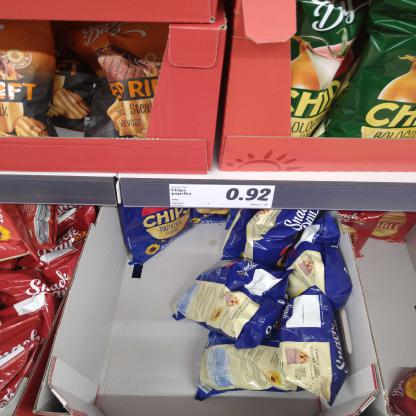prtg: (170, 185, 276, 210)
